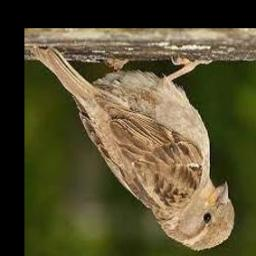Sparrow: (31, 45, 233, 251)
